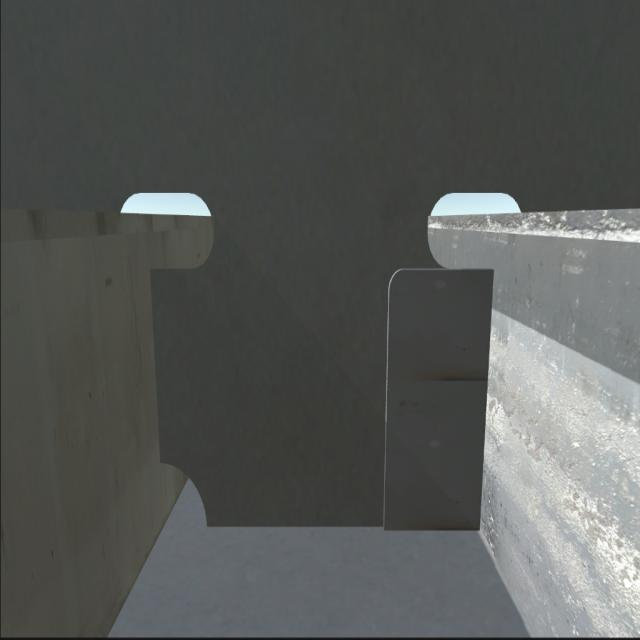fillet_hole: (162, 459, 210, 526)
fillet_yong_jeop_jang: (195, 509, 488, 543)
longi_yong_jeop_jang: (478, 262, 498, 539), (144, 259, 169, 470)
plate_CP05: (385, 265, 486, 533)
